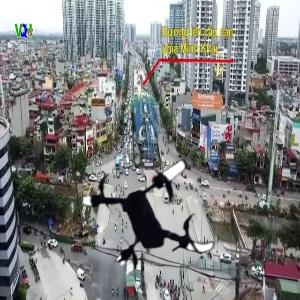drone: (84, 141, 228, 285)
